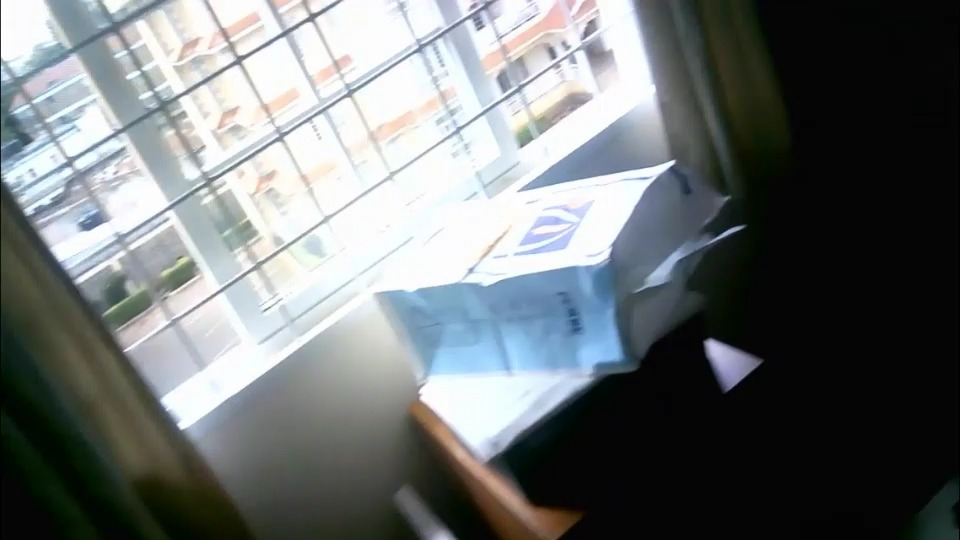wheat_flour_blue_label: (375, 161, 708, 370)
